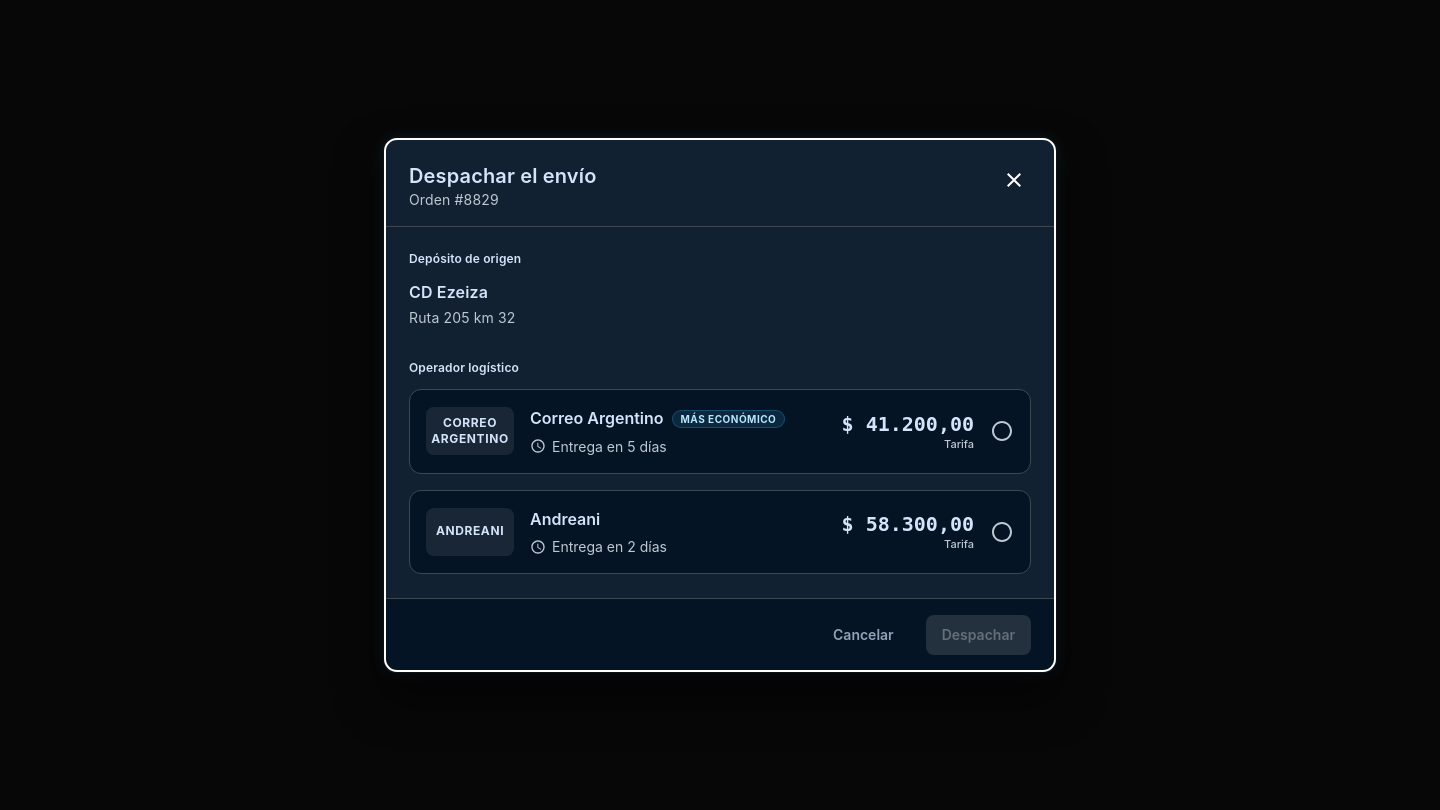
Test: DispatchShipmentDialog › when the dispatch fails again › says so, with what the api answered
Click the radio button labelled "Andreani Andreani Entrega en 2 días $ 58.300,00 Tarifa" at (470, 532), box [409, 490, 1031, 574]
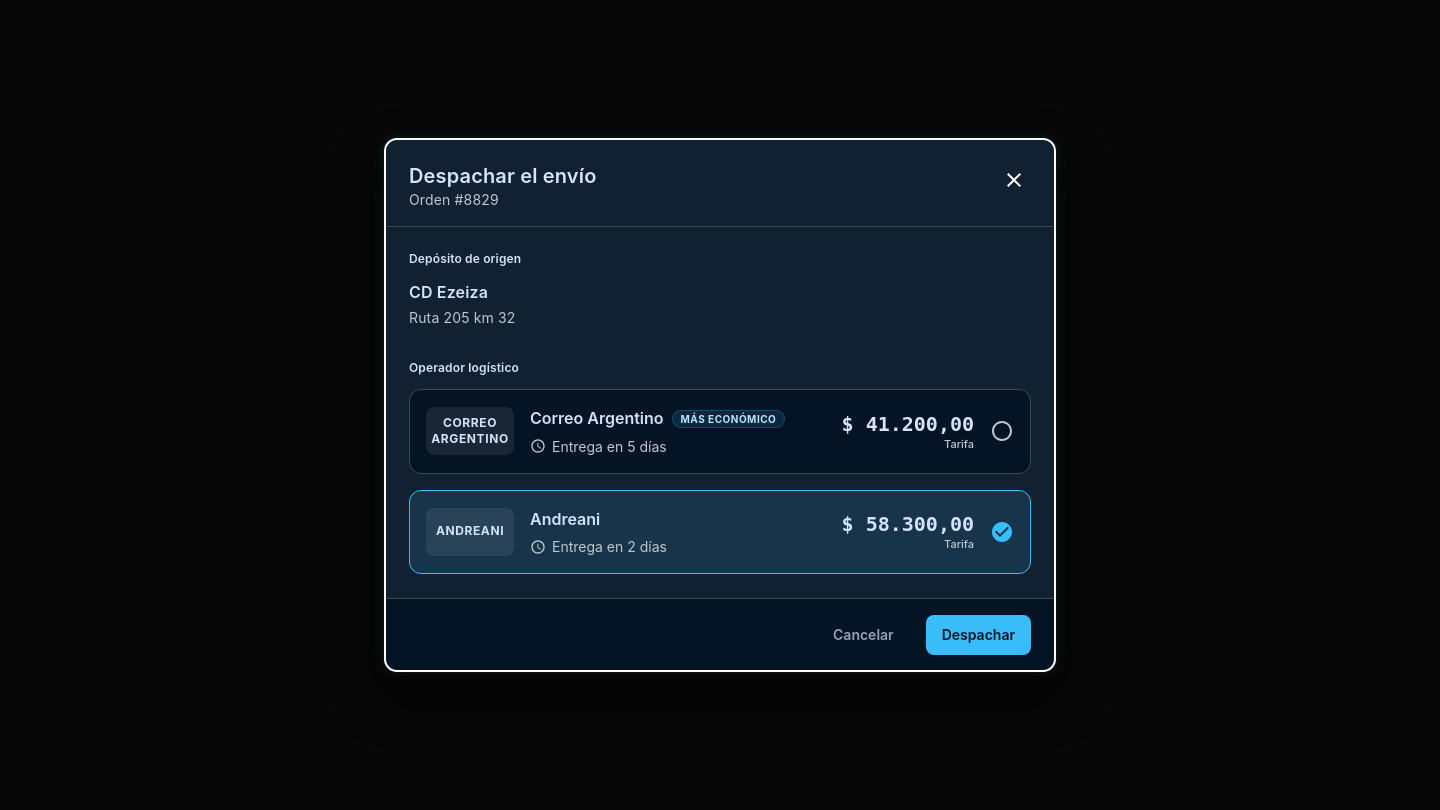
Click the button "Despachar" at (978, 635), box [926, 615, 1031, 655]
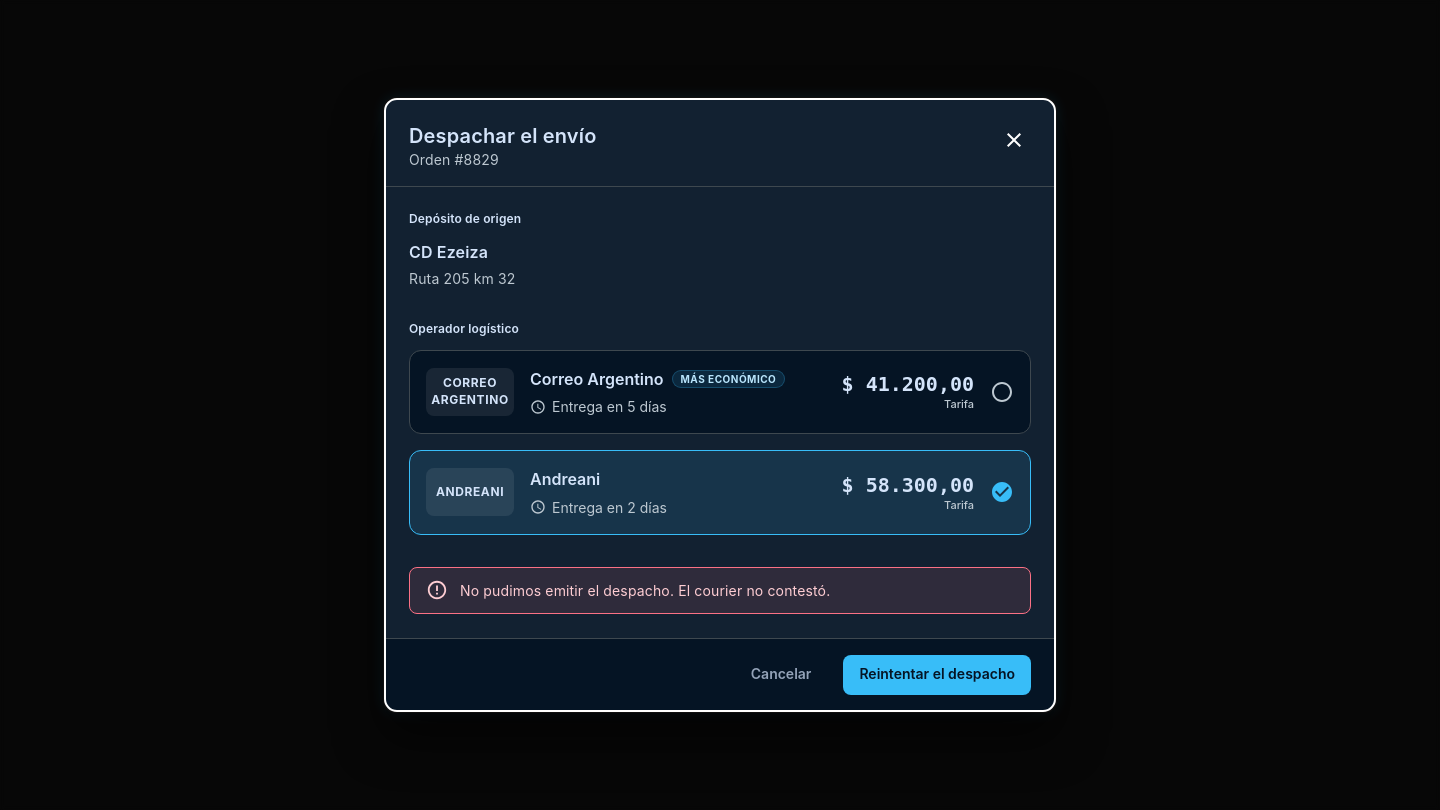
expect the text "No pudimos emitir el despacho. El courier no contestó." is shown: met, box [460, 582, 830, 599]
